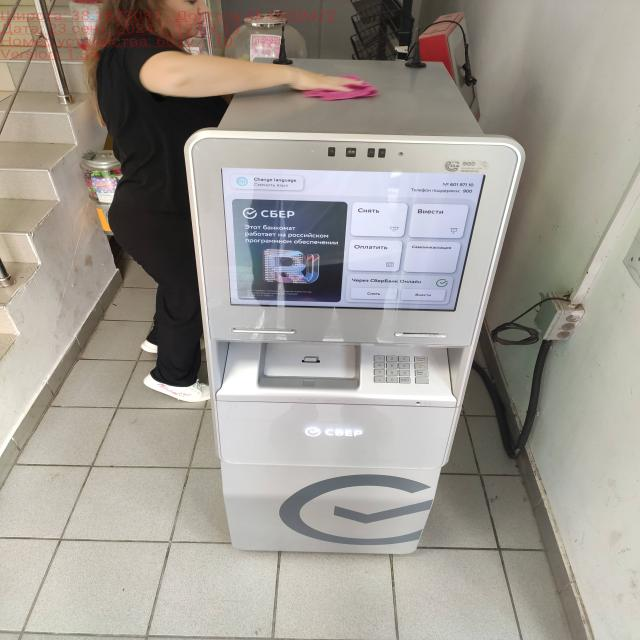bank: (183, 55, 529, 567)
